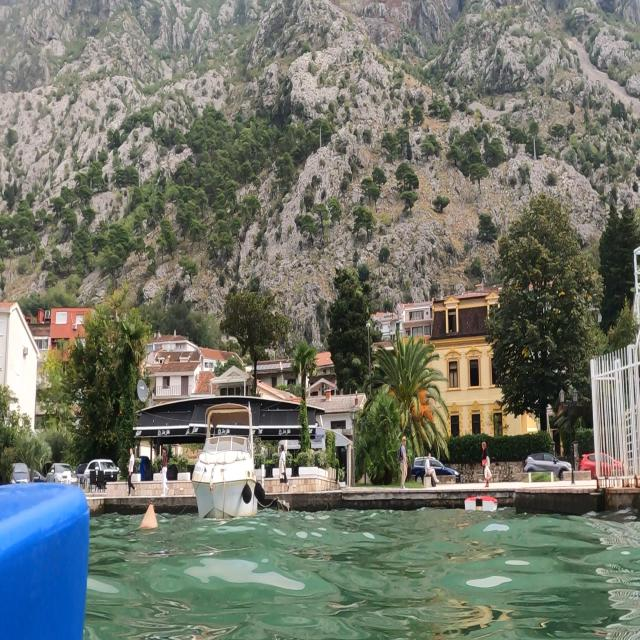boat: (190, 400, 261, 522)
buoy: (134, 498, 165, 539)
